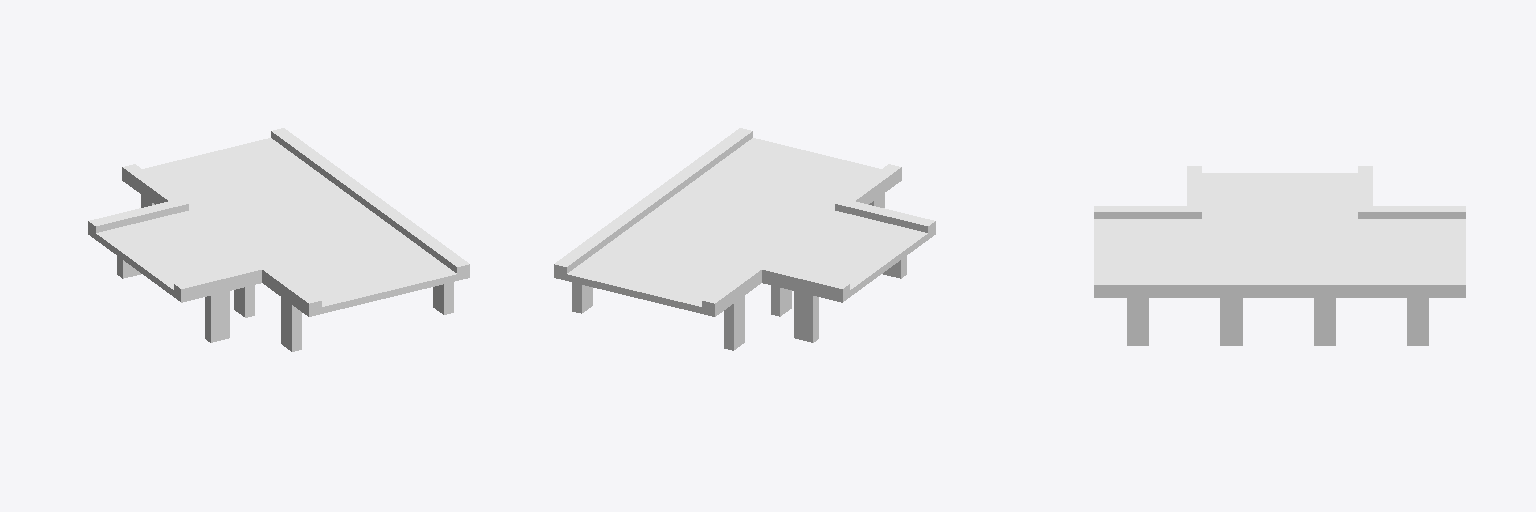
Rendered from T_road.obj.
3 views of the same model, side by side, from view 1: azimuth 30°, elevation 25°; view 2: azimuth 150°, elevation 25°; view 3: azimuth 270°, elevation 25° (orthographic).
Visible parts, largest first — view 1: T_road; view 2: T_road; view 3: T_road.
Boxes of the visible parts, x1,y1,x2,y2 form: T_road: [88, 128, 469, 351]; T_road: [554, 128, 935, 350]; T_road: [1094, 166, 1465, 345].
Size of the model in its own units: 75 by 18 by 100.